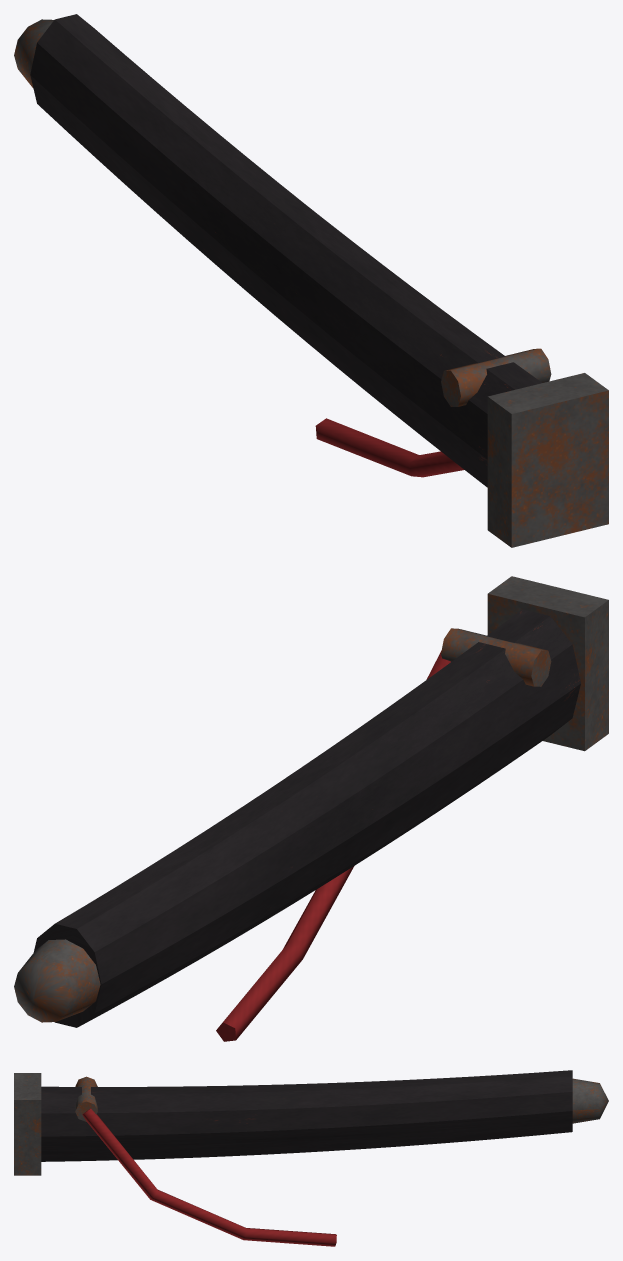
Rendered from HO_Weapon_IronKatana_Saya.fbx.
The picture shows the model from 3 angles, top to bottom: view 1: azimuth 30°, elevation 25°; view 2: azimuth 150°, elevation 25°; view 3: azimuth 270°, elevation 25°; orthographic projection. The views are drawn at different scales.
Parts seen in each view (by area): view 1: HO_Weapon_IronKatana_Saya__Black_Lacquer, HO_Weapon_IronKatana_Saya__Iron_Wrought, HO_Weapon_IronKatana_Saya__Cloth_Crimson; view 2: HO_Weapon_IronKatana_Saya__Black_Lacquer, HO_Weapon_IronKatana_Saya__Iron_Wrought, HO_Weapon_IronKatana_Saya__Cloth_Crimson; view 3: HO_Weapon_IronKatana_Saya__Black_Lacquer, HO_Weapon_IronKatana_Saya__Iron_Wrought, HO_Weapon_IronKatana_Saya__Cloth_Crimson.
Boxes of the visible parts, x1,y1,x2,y2 form: HO_Weapon_IronKatana_Saya__Black_Lacquer: (30,14,541,487); HO_Weapon_IronKatana_Saya__Iron_Wrought: (14,19,608,547); HO_Weapon_IronKatana_Saya__Cloth_Crimson: (315,418,463,477); HO_Weapon_IronKatana_Saya__Black_Lacquer: (33,609,580,1027); HO_Weapon_IronKatana_Saya__Iron_Wrought: (14,576,608,1022); HO_Weapon_IronKatana_Saya__Cloth_Crimson: (216,650,450,1041); HO_Weapon_IronKatana_Saya__Black_Lacquer: (41,1070,572,1161); HO_Weapon_IronKatana_Saya__Iron_Wrought: (14,1073,608,1175); HO_Weapon_IronKatana_Saya__Cloth_Crimson: (82,1108,336,1246).
Size of the model in its own units: 0.3699 by 0.7755 by 2.62.
